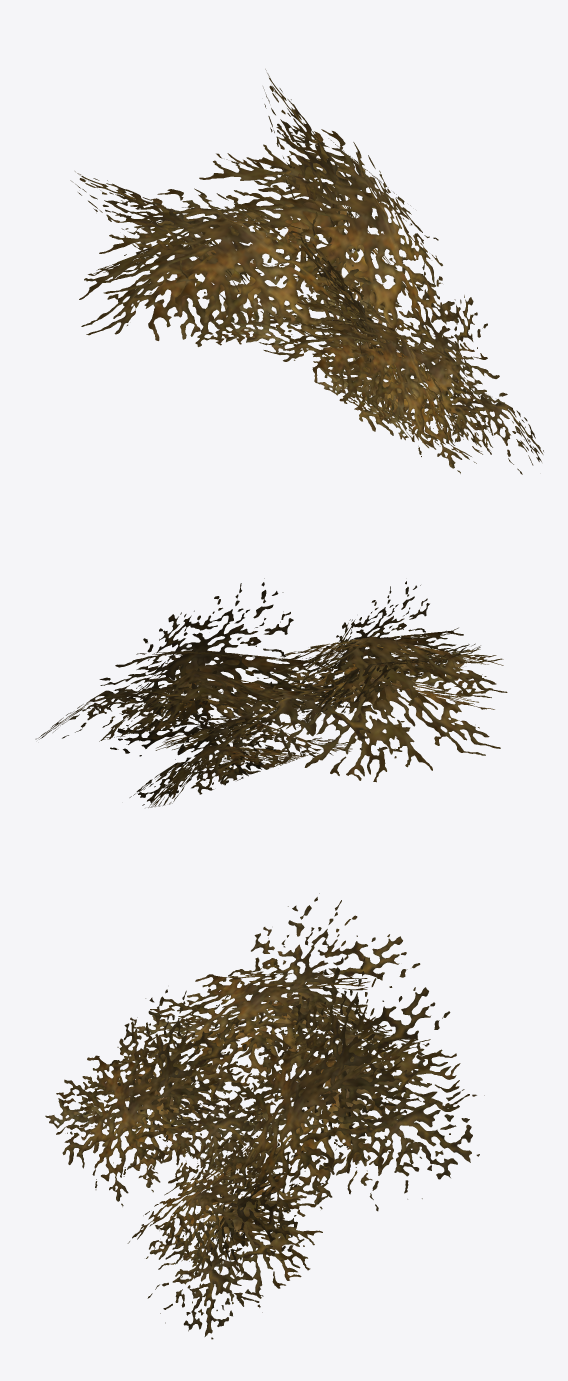
The model's file is grass_002.FBX.
The picture shows the model from 3 angles, top to bottom: view 1: azimuth 30°, elevation 25°; view 2: azimuth 150°, elevation 25°; view 3: azimuth 270°, elevation 25°; orthographic projection. The views are drawn at different scales.
Parts seen in each view (by area): view 1: grass_002; view 2: grass_002; view 3: grass_002.
Boxes of the visible parts, bbox=[...] form: grass_002: bbox=[70, 69, 543, 474]; grass_002: bbox=[35, 578, 507, 807]; grass_002: bbox=[45, 893, 484, 1339].
Size of the model in its own units: 189 by 133 by 197.
